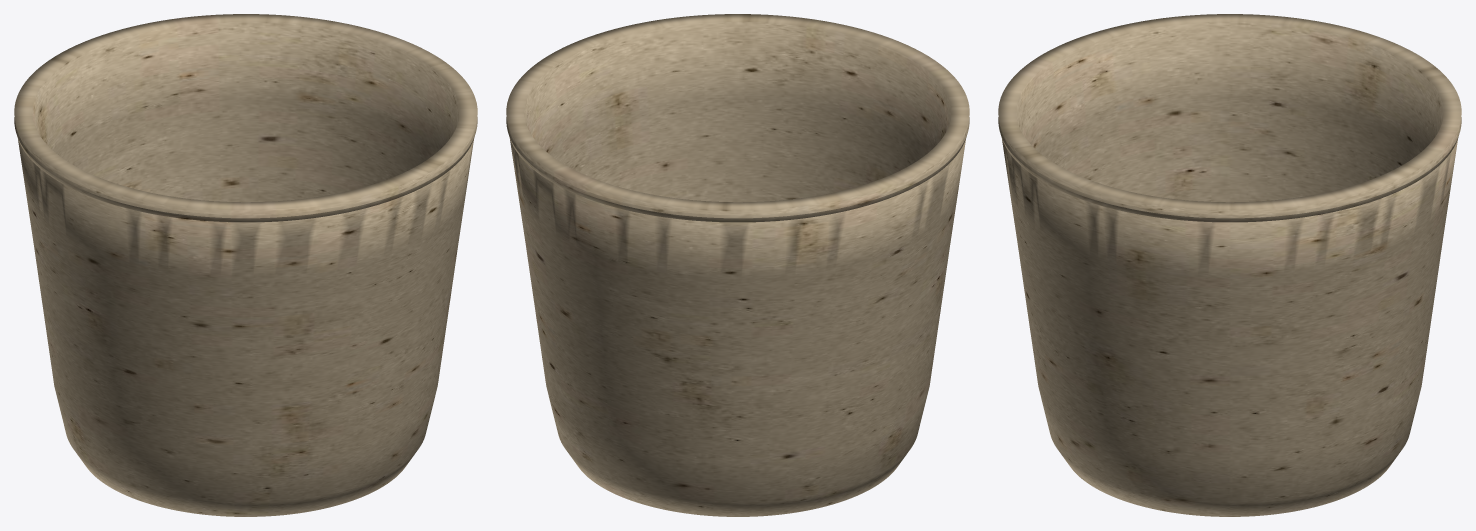
3 renders of one model, left to right at view 1: azimuth 30°, elevation 25°; view 2: azimuth 150°, elevation 25°; view 3: azimuth 270°, elevation 25°, orthographic.
Parts seen in each view (by area): view 1: body; view 2: body; view 3: body.
Part boxes in pixels (x1,y1,x2,y2): body: (14, 14, 477, 516); body: (506, 14, 969, 516); body: (998, 14, 1461, 516).
Bounding box in the file's own units: 0.0556 × 0.0443 × 0.0556.
1 material, 1 textured.
